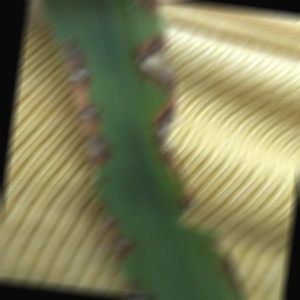Brown_Spot: (132, 30, 177, 87), (146, 98, 183, 159), (53, 41, 91, 89), (80, 130, 115, 176), (109, 232, 137, 260), (81, 97, 107, 125), (179, 190, 204, 212), (102, 209, 118, 227)
